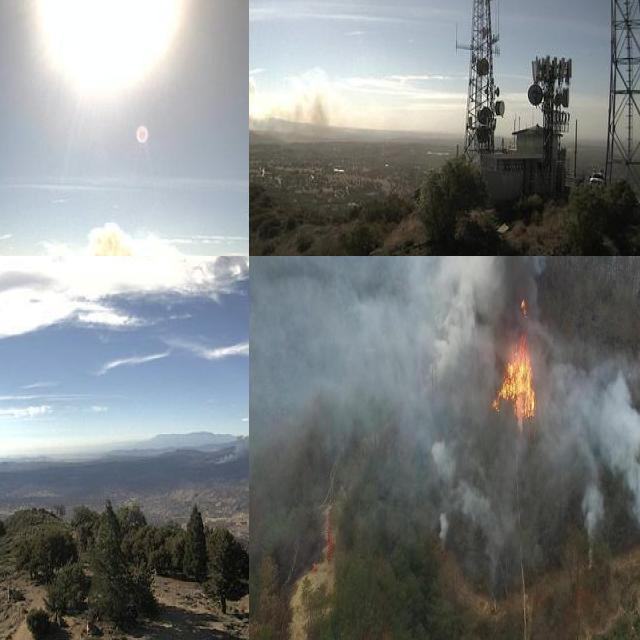fire: (470, 271, 566, 441)
smoke: (249, 256, 640, 583), (0, 214, 220, 256), (211, 403, 249, 467)
